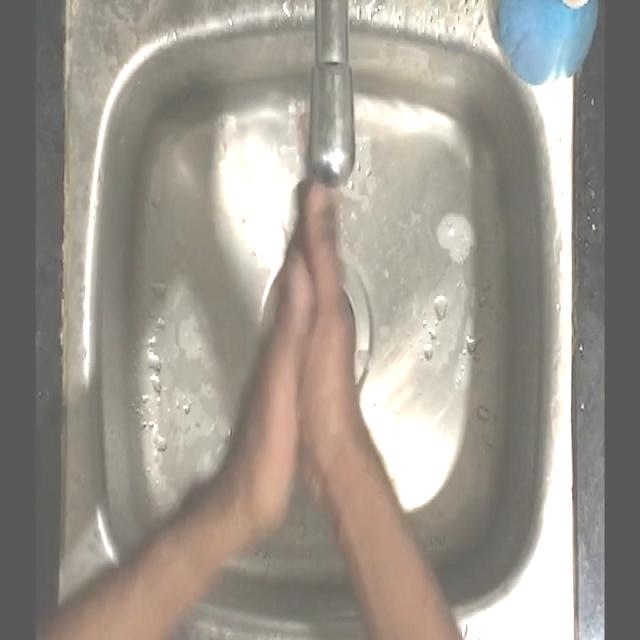step_1: (244, 106, 384, 436)
